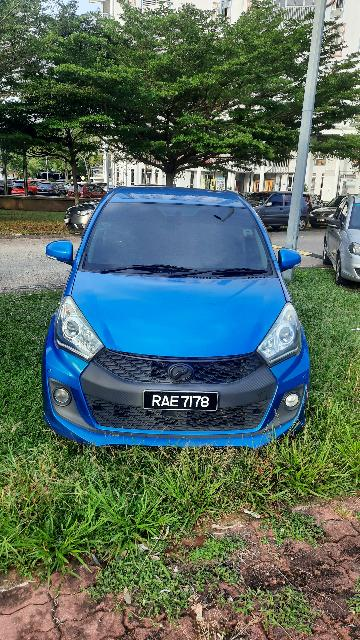License_Plate: (139, 390, 223, 417)
car: (33, 182, 311, 452)
